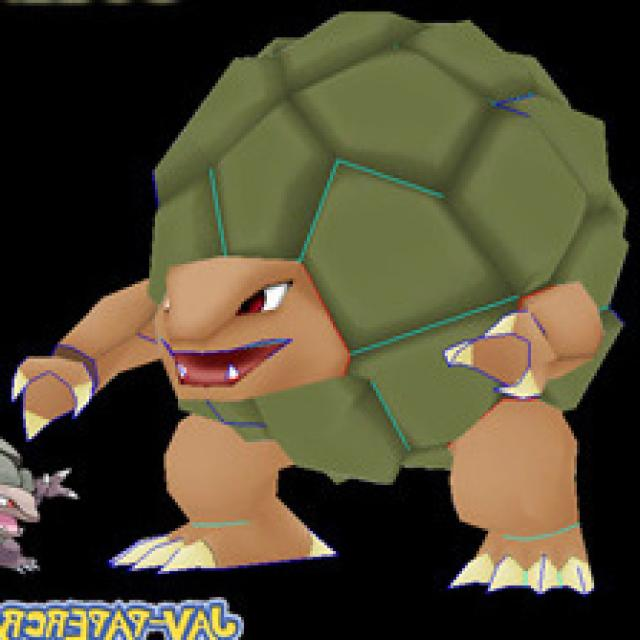Golem: (60, 7, 636, 575)
